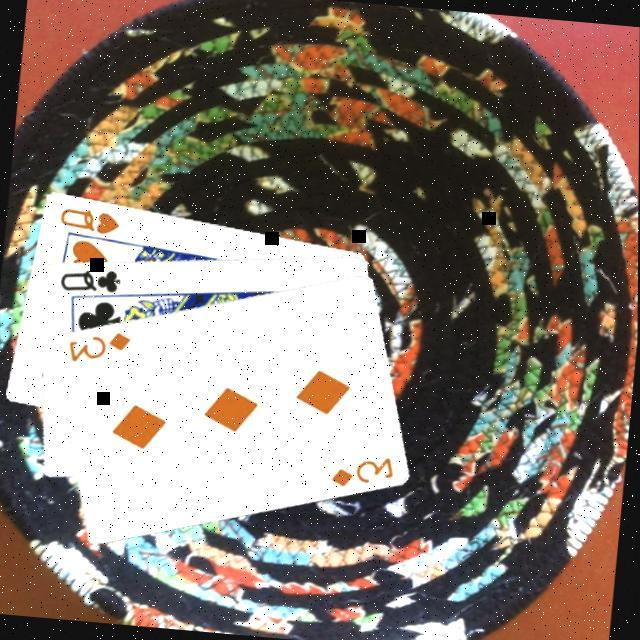3D: (62, 326, 133, 372), (325, 450, 396, 496)
QC: (55, 263, 123, 299)
QH: (53, 204, 121, 240)
